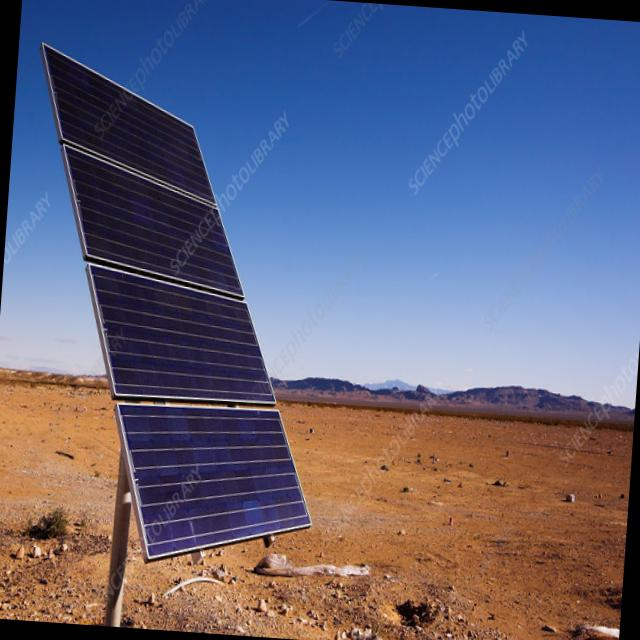faulty: (46, 56, 309, 559)
